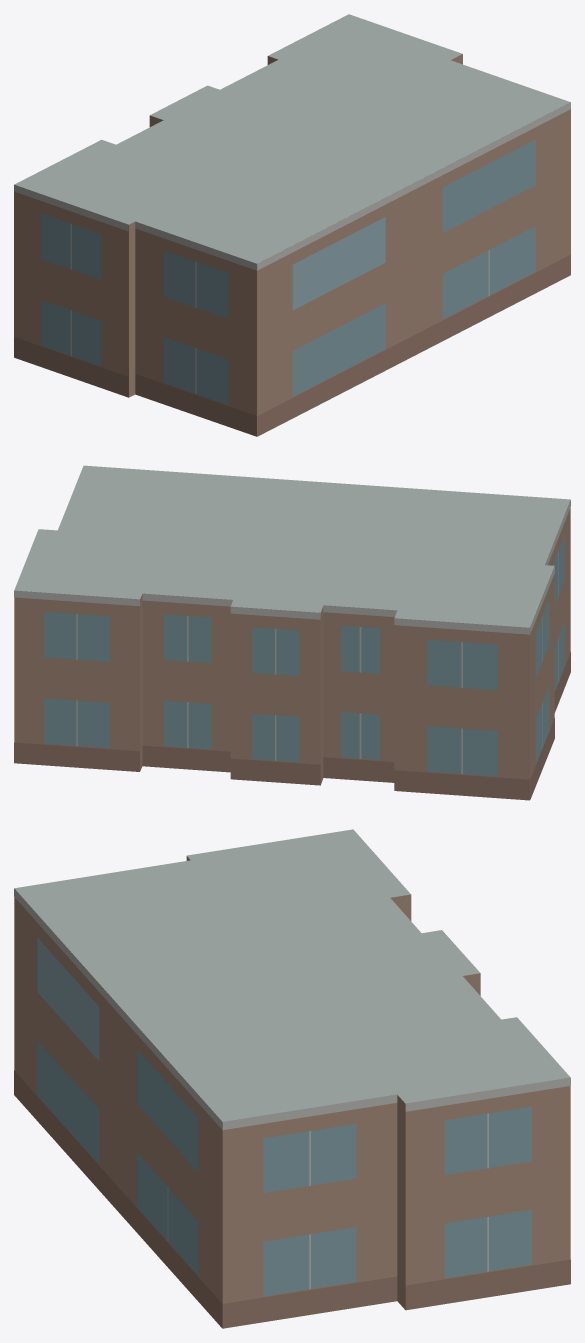
The model's file is survey-upis-32823262.glb.
The picture shows the model from 3 angles, top to bottom: view 1: azimuth 30°, elevation 25°; view 2: azimuth 150°, elevation 25°; view 3: azimuth 270°, elevation 25°; orthographic projection. The views are drawn at different scales.
Parts seen in each view (by area): view 1: survey-upis-32823262.tmp; view 2: survey-upis-32823262.tmp; view 3: survey-upis-32823262.tmp.
Part boxes in pixels (x1,y1,x2,y2): survey-upis-32823262.tmp: (14,14,570,436); survey-upis-32823262.tmp: (14,465,570,800); survey-upis-32823262.tmp: (14,829,570,1328).
Bounding box in the file's own units: 18.54 × 6.1 × 14.9.
